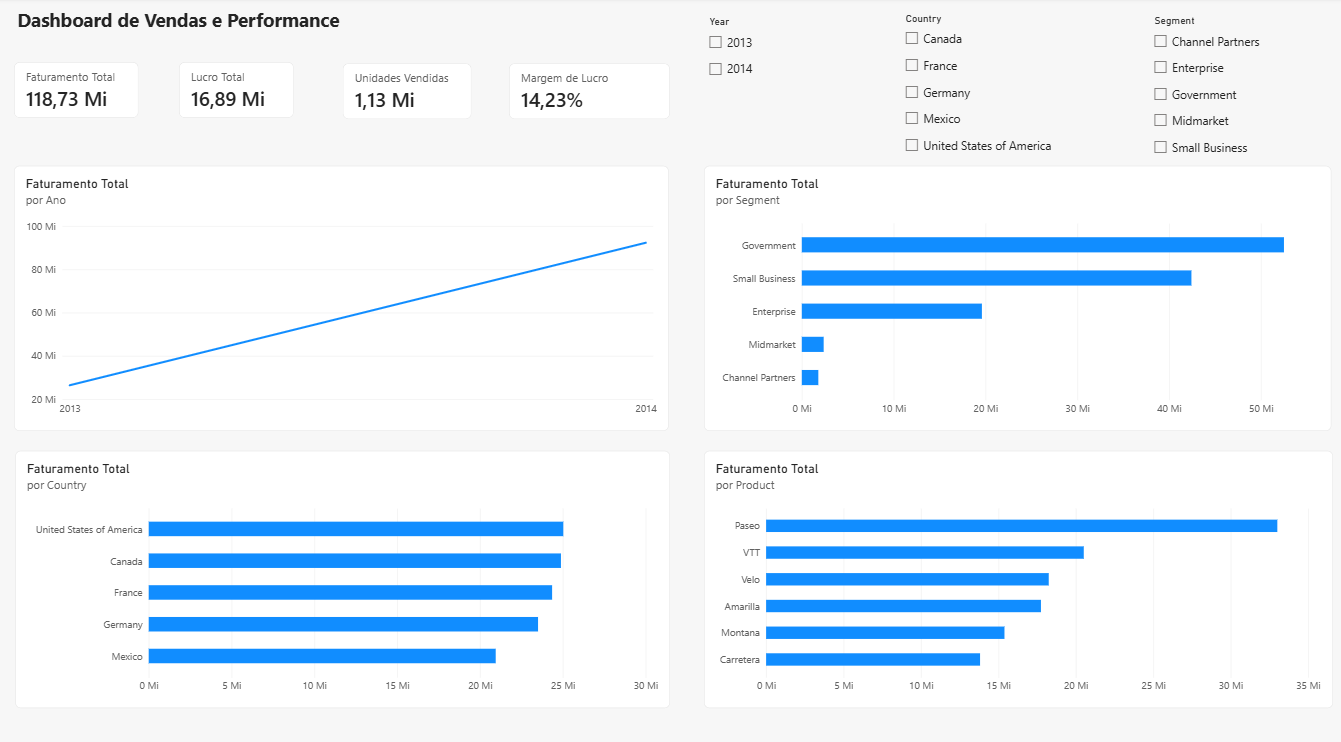

The dashboard page shown, as its layout file describes it:
{"tool":"powerbi","page":{"name":"Dashboard de Vendas e Performance","canvas":[1920,1080],"ordinal":0},"visuals":[{"type":"cardVisual","title":"Faturamento","fields":{"Data":["financials.Faturamento Total"]},"box":[21.4,92.9,178.7,80.4],"z":0},{"type":"cardVisual","fields":{"Data":["financials.Lucro Total"]},"box":[257.3,92.9,164.4,80.4],"z":1},{"type":"cardVisual","fields":{"Data":["financials.Unidades Vendidas"]},"box":[491.4,94.7,184.1,80.4],"z":2},{"type":"cardVisual","fields":{"Data":["financials.Margem de Lucro"]},"box":[729.1,94.7,230.5,80.4],"z":4},{"type":"lineChart","fields":{"Category":["financials.Date.Variation.Hierarquia de datas.Ano","financials.Date.Variation.Hierarquia de datas.Trimestre","financials.Date.Variation.Hierarquia de datas.Mês","financials.Date.Variation.Hierarquia de datas.Dia"],"Y":["financials.Faturamento Total"]},"box":[21.4,241.2,936.3,378.8],"z":5},{"type":"barChart","fields":{"Category":["financials.Segment"],"Y":["financials.Faturamento Total"]},"box":[1007.8,241.2,897,378.8],"z":6},{"type":"barChart","fields":{"Category":["financials.Country"],"Y":["financials.Faturamento Total"]},"box":[23.2,648.7,936.3,368.1],"z":7},{"type":"barChart","fields":{"Category":["financials.Product"],"Y":["financials.Faturamento Total"]},"box":[1007.8,648.7,898.8,368.1],"z":8},{"type":"slicer","fields":{"Values":["financials.Year"]},"box":[1007.8,26.8,103.6,105.4],"z":9},{"type":"slicer","fields":{"Values":["financials.Country"]},"box":[1288.4,21.4,235.9,219.8],"z":10},{"type":"slicer","fields":{"Values":["financials.Segment"]},"box":[1644,25,182.3,216.2],"z":11},{"type":"textbox","box":[0,14.3,512.8,60.8],"z":12}]}

Visuals, with their boxes in screenshot pixels (x1, y1, x2, y2), scaled from the page's 1920x1080 canvas onto the 1341x742 screenshot:
"Faturamento" cardVisual: select_region(15, 64, 140, 119)
cardVisual - financials.Lucro Total: select_region(180, 64, 295, 119)
cardVisual - financials.Unidades Vendidas: select_region(343, 65, 472, 120)
cardVisual - financials.Margem de Lucro: select_region(509, 65, 670, 120)
lineChart - financials.Date.Variation.Hierarquia de datas.Ano x financials.Date.Variation.Hierarquia de datas.Trimestre: select_region(15, 166, 669, 426)
barChart - financials.Segment x financials.Faturamento Total: select_region(704, 166, 1330, 426)
barChart - financials.Country x financials.Faturamento Total: select_region(16, 446, 670, 699)
barChart - financials.Product x financials.Faturamento Total: select_region(704, 446, 1332, 699)
slicer - financials.Year: select_region(704, 18, 776, 91)
slicer - financials.Country: select_region(900, 15, 1065, 166)
slicer - financials.Segment: select_region(1148, 17, 1276, 166)
textbox: select_region(0, 10, 358, 52)
